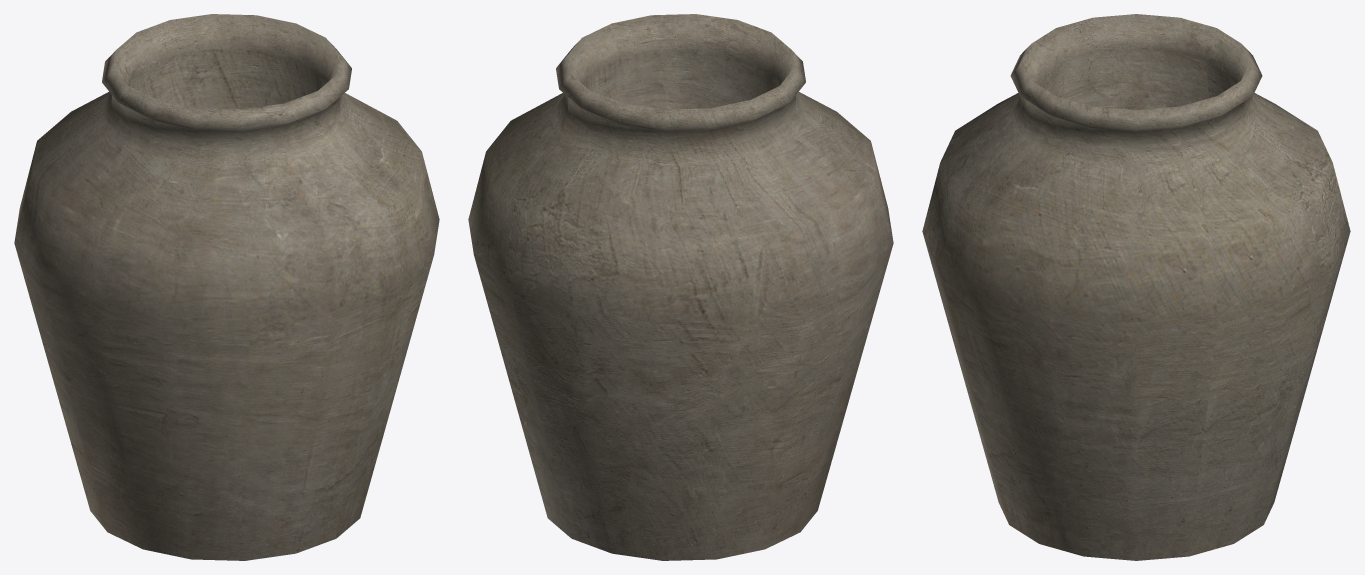
The model's file is Jug_2.FBX.
The picture shows the model from 3 angles, left to right: view 1: azimuth 30°, elevation 25°; view 2: azimuth 150°, elevation 25°; view 3: azimuth 270°, elevation 25°; orthographic projection.
Visible parts, largest first — view 1: mesh; view 2: mesh; view 3: mesh.
Boxes of the visible parts, x1,y1,x2,y2 form: mesh: (14, 14, 439, 560); mesh: (468, 14, 893, 560); mesh: (922, 14, 1350, 560).
Bounding box in the file's own units: 29.11 × 29.11 × 33.05.
